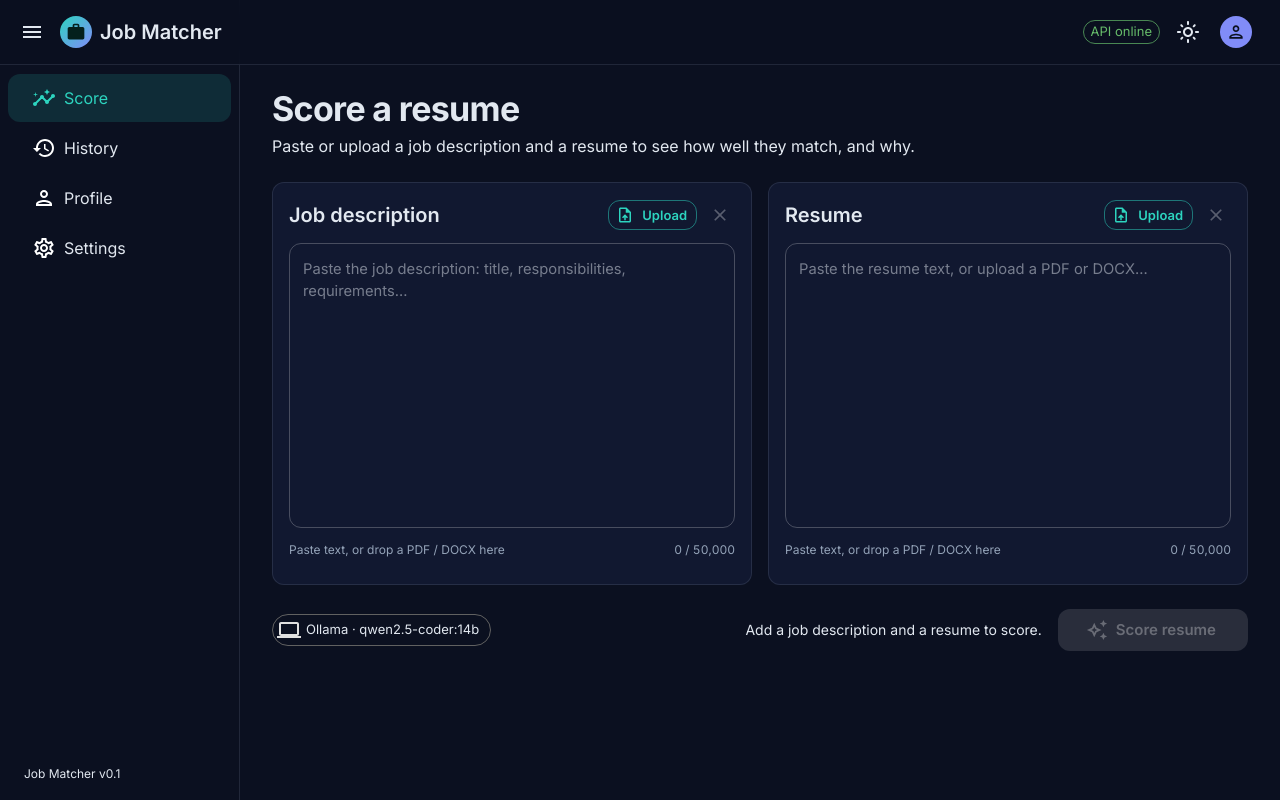
Test case: AppShell › opens Profile from the account menu
Click the button named "Open account menu" at (1236, 32), box [1216, 12, 1256, 52]
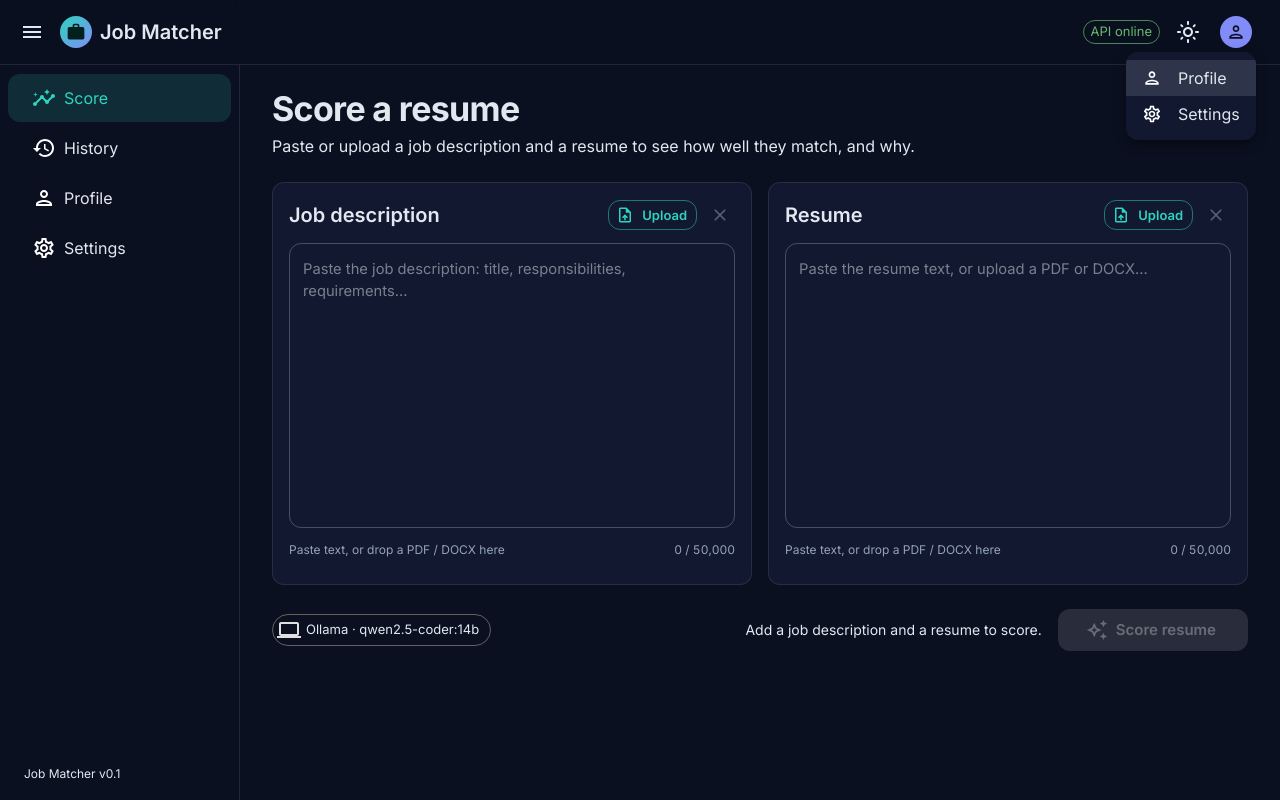
Click the menu item "Profile" at (1191, 78), box [1126, 60, 1256, 96]
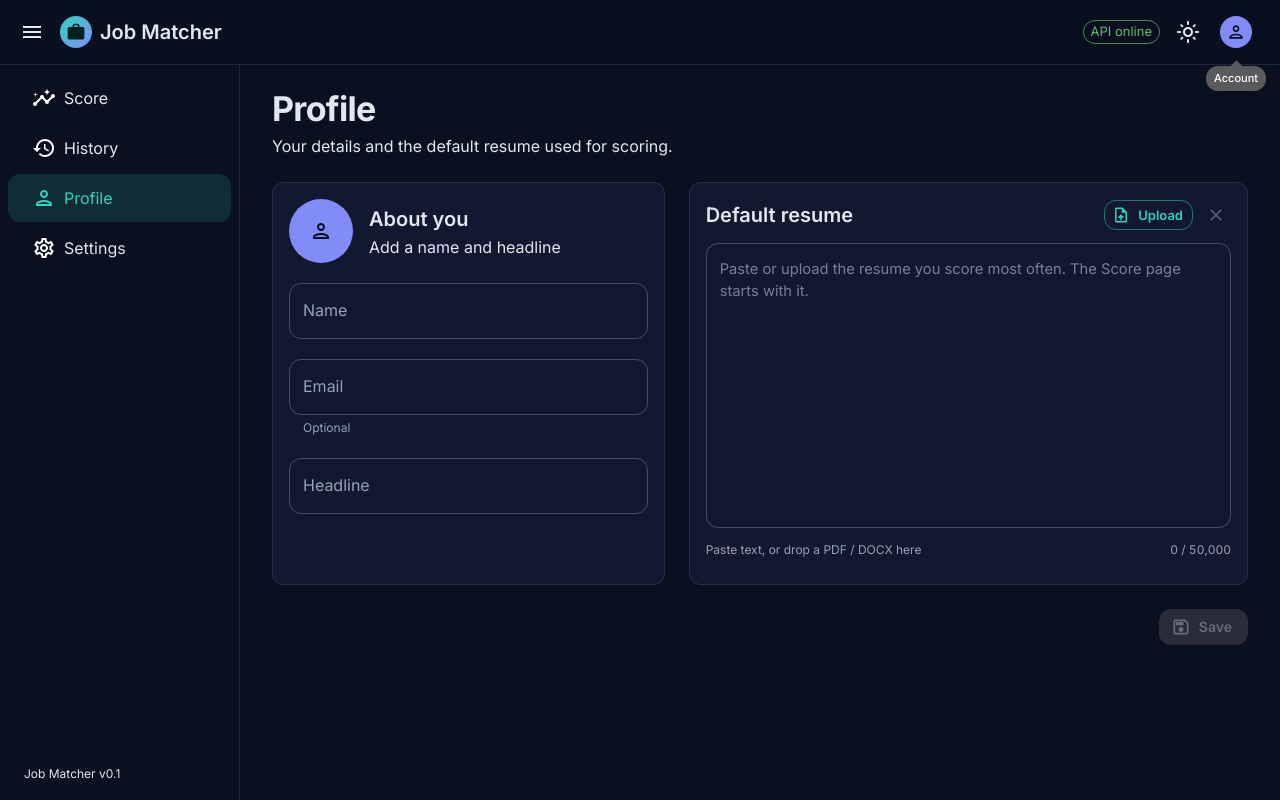
Expected: the heading "Profile" is shown, [272, 88, 376, 129]
